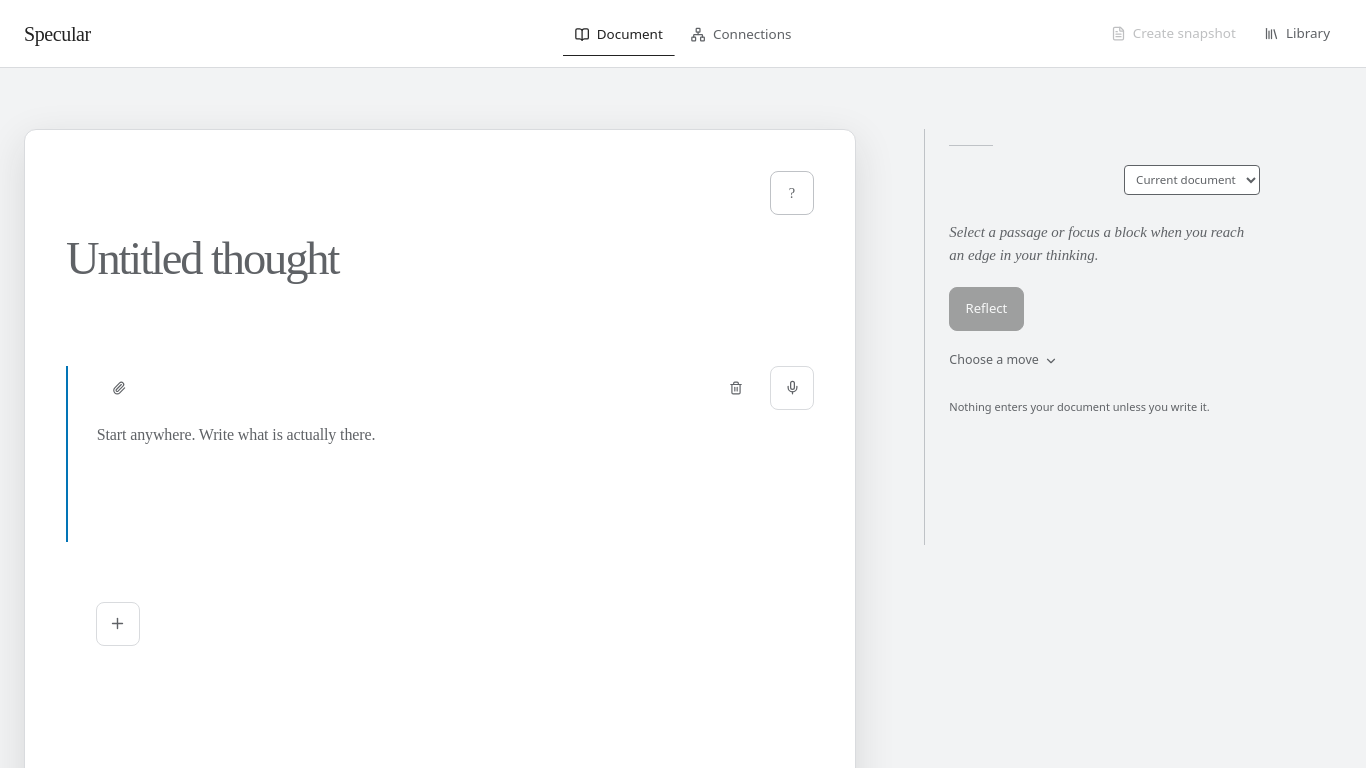
Scenario: Specular thinking workspace › uses a final checkpoint that arrives during Done instead of treating it as empty
The image size is (1366, 768).
Click the button named "Start dictation". click: (792, 388)
box: [770,366,814,410]
(page scrolled)
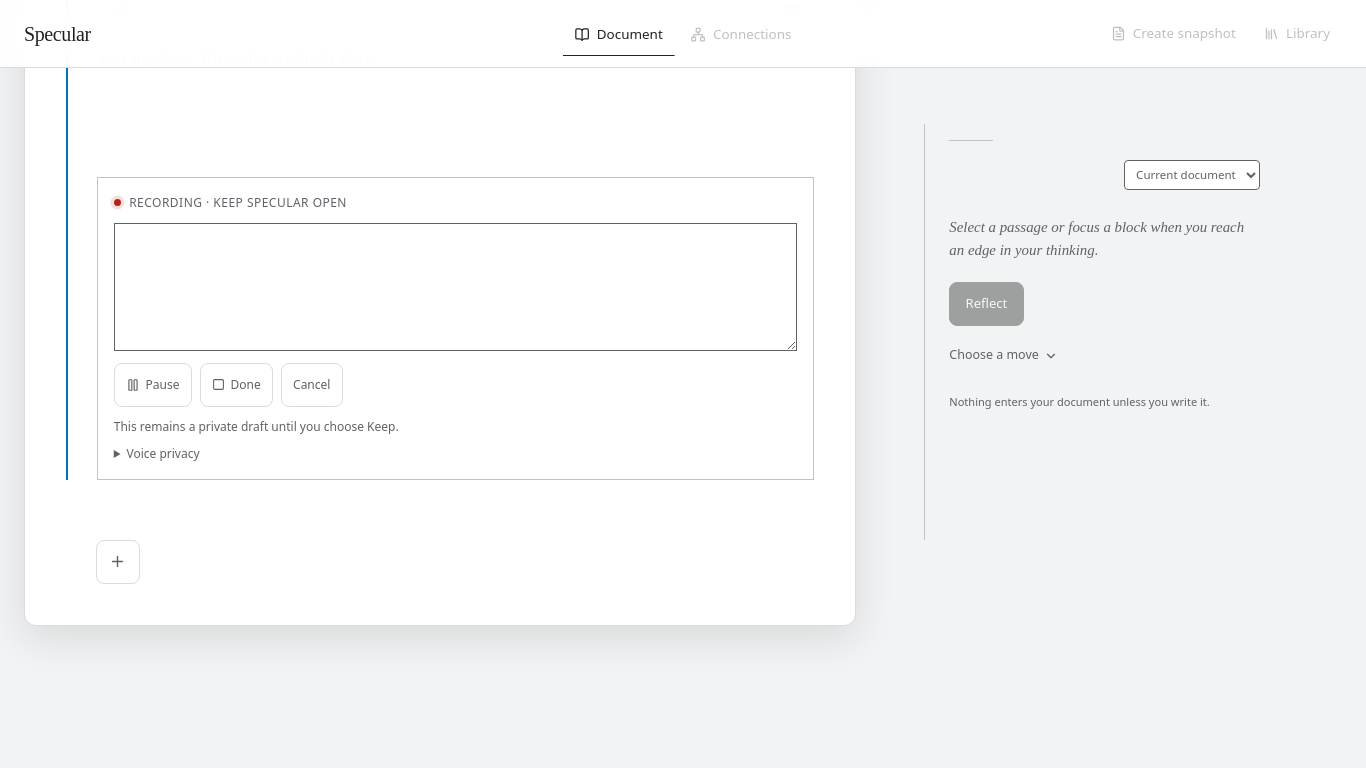
Click the button with aria-label "Finish dictation". click: (236, 385)
box: [200,363,273,407]
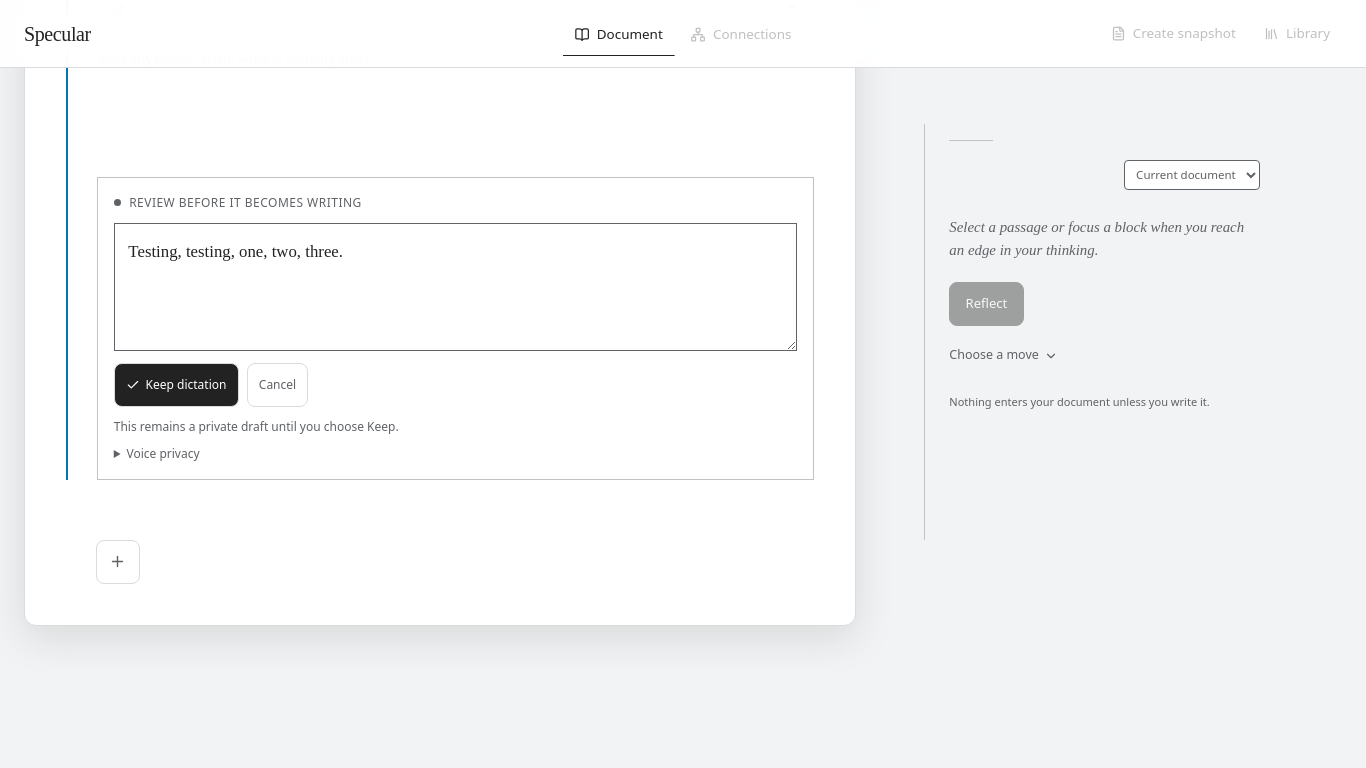
Expected: the text box named "Dictation draft" holds "Testing, testing, one, two, three.", [114,223,797,351]
Expected: the button "Keep dictation" is shown, [114,363,239,407]
